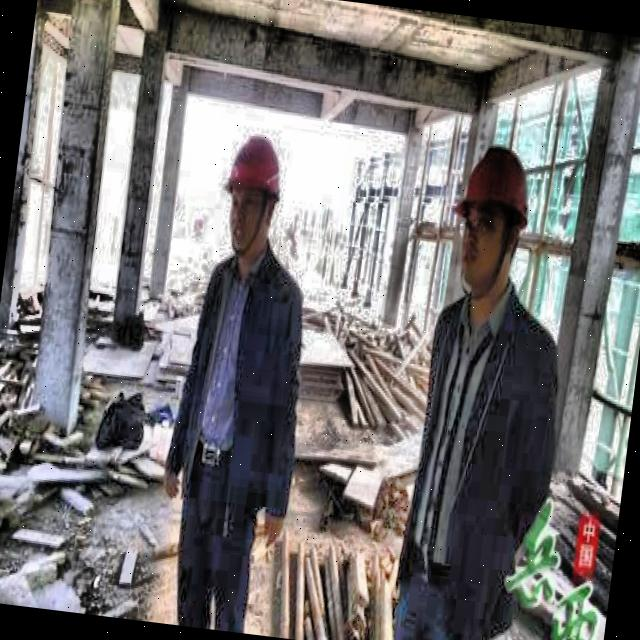helmet: (437, 128, 543, 304), (210, 121, 295, 262)
